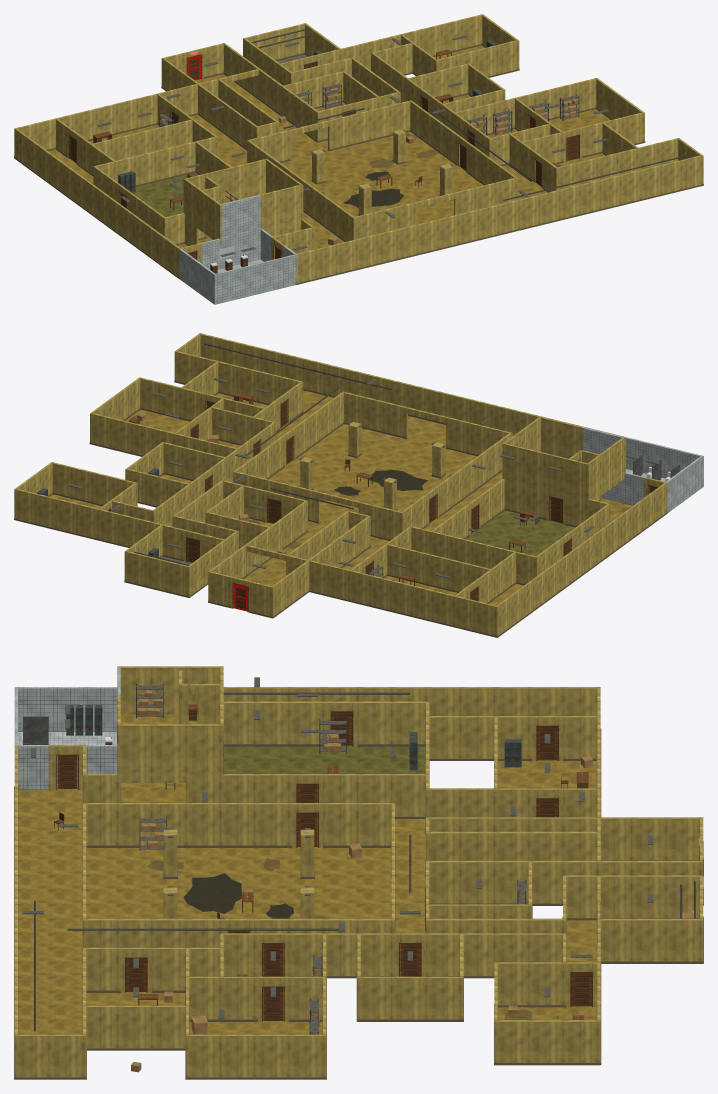
The model's file is backrooms_level_0.glb.
3 views of the same model, one above another, from view 1: azimuth 30°, elevation 25°; view 2: azimuth 150°, elevation 25°; view 3: azimuth 270°, elevation 25° (orthographic). The views are drawn at different scales.
Parts seen in each view (by area): view 1: Walls_Level0_Lower, Floor_Hall_Big, Walls_LadderBay_Upper, Baseboard_Trim, Floor_Corridors, Floor_Storage_Dark, Floor_Storage_East, Puddle_01; view 2: Walls_Level0_Lower, Floor_Hall_Big, Walls_LadderBay_Upper, Floor_Corridors, Baseboard_Trim, Floor_Storage_Dark, Puddle_01, Floor_Storage_East, Pillar_Hall_03; view 3: Walls_Level0_Lower, Floor_Corridors, Floor_Hall_Big, Walls_LadderBay_Upper, Baseboard_Trim, Floor_Storage_Dark, Floor_Office_Main, Puddle_01, Floor_Storage_East, Wall_Upper_Partition, Floor_Ladder_Bay, Floor_Room_NE (+14 smaller).
Part boxes in pixels (x1=…): Walls_Level0_Lower: x1=14, y1=14, x2=703, y2=304; Floor_Hall_Big: x1=281, y1=131, x2=483, y2=224; Walls_LadderBay_Upper: x1=183, y1=158, x2=303, y2=237; Baseboard_Trim: x1=14, y1=44, x2=703, y2=284; Floor_Corridors: x1=48, y1=99, x2=547, y2=249; Floor_Storage_Dark: x1=132, y1=172, x2=198, y2=217; Floor_Storage_East: x1=549, y1=109, x2=610, y2=131; Puddle_01: x1=343, y1=189, x2=404, y2=208; Walls_Level0_Lower: x1=14, y1=333, x2=703, y2=636; Floor_Hall_Big: x1=268, y1=424, x2=476, y2=524; Walls_LadderBay_Upper: x1=502, y1=416, x2=625, y2=497; Floor_Corridors: x1=247, y1=390, x2=632, y2=605; Baseboard_Trim: x1=14, y1=380, x2=667, y2=637; Floor_Storage_Dark: x1=465, y1=510, x2=575, y2=556; Puddle_01: x1=369, y1=470, x2=427, y2=490; Floor_Storage_East: x1=125, y1=409, x2=189, y2=432; Pillar_Hall_03: x1=431, y1=442, x2=445, y2=478; Walls_Level0_Lower: x1=14, y1=687, x2=703, y2=1077; Floor_Corridors: x1=18, y1=789, x2=596, y2=1034; Floor_Hall_Big: x1=86, y1=847, x2=391, y2=932; Walls_LadderBay_Upper: x1=117, y1=666, x2=223, y2=772; Baseboard_Trim: x1=14, y1=728, x2=703, y2=1079; Floor_Storage_Dark: x1=224, y1=745, x2=425, y2=817; Floor_Office_Main: x1=498, y1=760, x2=596, y2=788; Puddle_01: x1=183, y1=873, x2=241, y2=913; Floor_Storage_East: x1=189, y1=1021, x2=322, y2=1034; Wall_Upper_Partition: x1=179, y1=670, x2=220, y2=723; Floor_Ladder_Bay: x1=120, y1=783, x2=185, y2=802; Floor_Room_NE: x1=498, y1=1006, x2=596, y2=1019.
Bounding box in the file's own units: 48.26 × 6 × 40.26.
23 materials, 14 textured.
